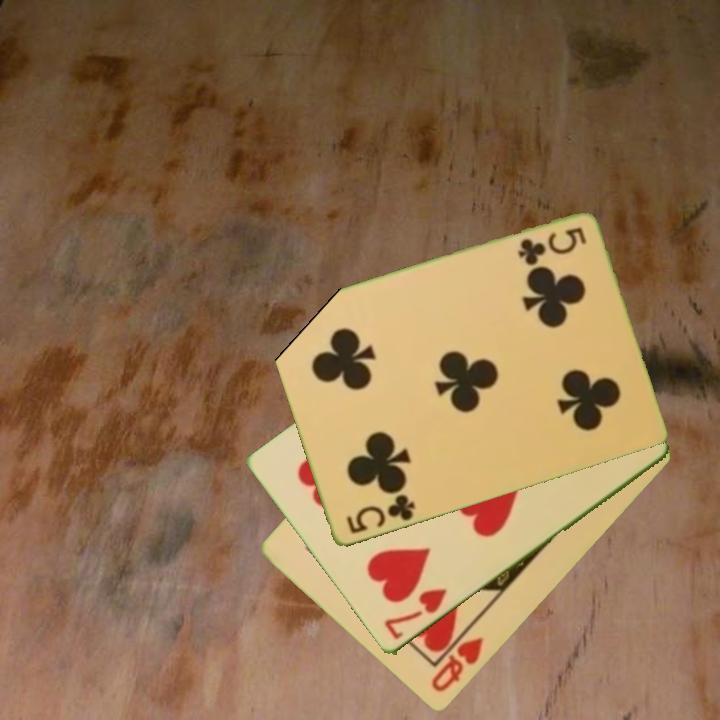5c: (342, 491, 418, 537), (514, 224, 589, 268)
7h: (380, 585, 450, 644)
Qh: (427, 634, 486, 696)
